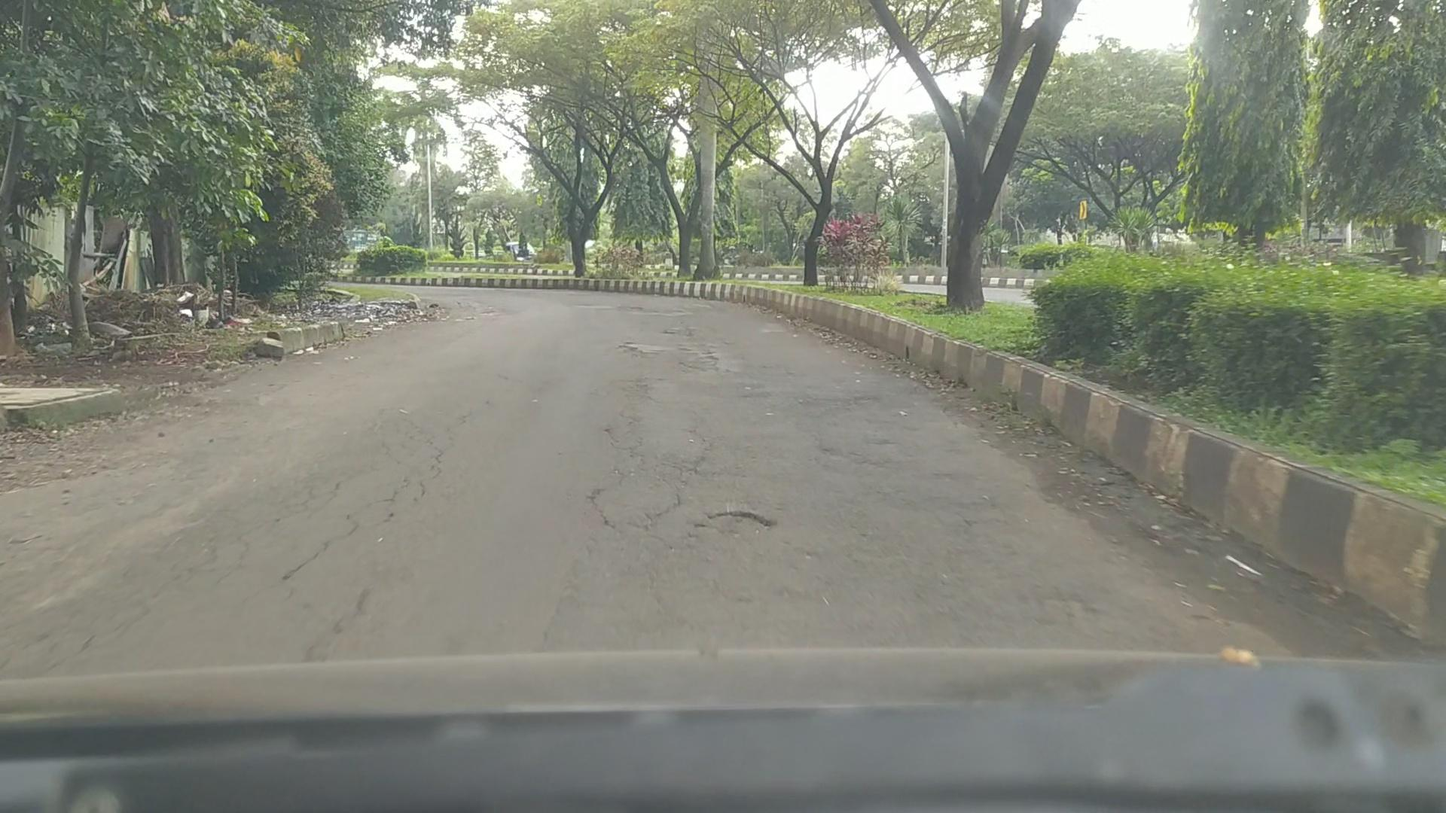pothole: (708, 508, 774, 539)
